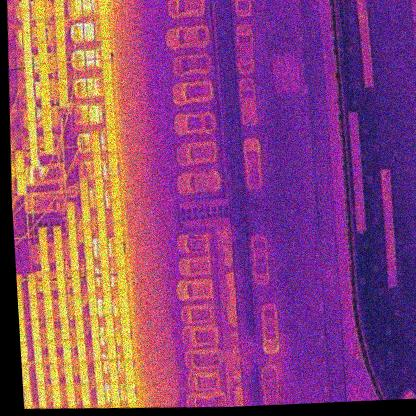Diode: (54, 0, 65, 18)
Hotspot: (58, 84, 70, 108), (101, 38, 112, 62), (55, 17, 66, 39)
Normal: (119, 312, 131, 337), (97, 221, 109, 246), (92, 359, 104, 384), (56, 271, 68, 295), (80, 382, 92, 406), (103, 83, 115, 107), (32, 339, 44, 363), (61, 339, 73, 363), (29, 318, 41, 342), (44, 317, 56, 341), (36, 384, 48, 407), (26, 274, 38, 297), (40, 272, 52, 295), (65, 383, 77, 406), (39, 249, 51, 272), (14, 151, 26, 174), (42, 130, 54, 153), (38, 63, 50, 86), (99, 15, 111, 38), (91, 337, 103, 360), (106, 128, 117, 153), (89, 314, 100, 338), (28, 295, 39, 319), (58, 294, 69, 318), (87, 291, 98, 315), (54, 248, 65, 272), (69, 247, 80, 271), (83, 247, 95, 269), (52, 225, 63, 249), (113, 221, 124, 245), (111, 197, 122, 221), (42, 107, 53, 131), (105, 106, 116, 130), (78, 360, 89, 384), (47, 340, 58, 364), (59, 316, 70, 340), (43, 295, 54, 318), (118, 290, 129, 313), (71, 270, 82, 293), (99, 245, 110, 268), (126, 380, 137, 403), (67, 225, 78, 248), (82, 224, 93, 247), (80, 201, 91, 224), (110, 175, 121, 198), (16, 173, 27, 196), (26, 98, 37, 121), (40, 86, 51, 109), (57, 61, 68, 84), (34, 363, 45, 386), (48, 362, 59, 385), (64, 361, 75, 384), (37, 40, 48, 63), (56, 39, 67, 62), (107, 336, 117, 361), (74, 316, 85, 338), (108, 360, 119, 382), (36, 18, 47, 40), (77, 338, 88, 360), (102, 267, 112, 291), (117, 267, 127, 291), (24, 53, 34, 77), (51, 385, 62, 406), (95, 383, 106, 404), (38, 228, 49, 249), (105, 314, 115, 337), (73, 294, 83, 317), (87, 269, 97, 292), (115, 244, 125, 267), (80, 178, 90, 201), (109, 152, 119, 175), (28, 121, 38, 144), (25, 76, 35, 99), (103, 61, 113, 84), (23, 31, 33, 54), (123, 335, 133, 358), (23, 385, 33, 407), (66, 203, 76, 225), (95, 177, 105, 199), (92, 131, 102, 153), (124, 358, 134, 380), (104, 291, 113, 315), (96, 199, 105, 223), (111, 382, 121, 403), (94, 153, 103, 176), (29, 143, 38, 166), (22, 9, 31, 32), (22, 363, 31, 385), (34, 0, 45, 18), (20, 341, 29, 363), (18, 297, 25, 320), (16, 274, 23, 297), (19, 319, 26, 342), (98, 0, 108, 16)
